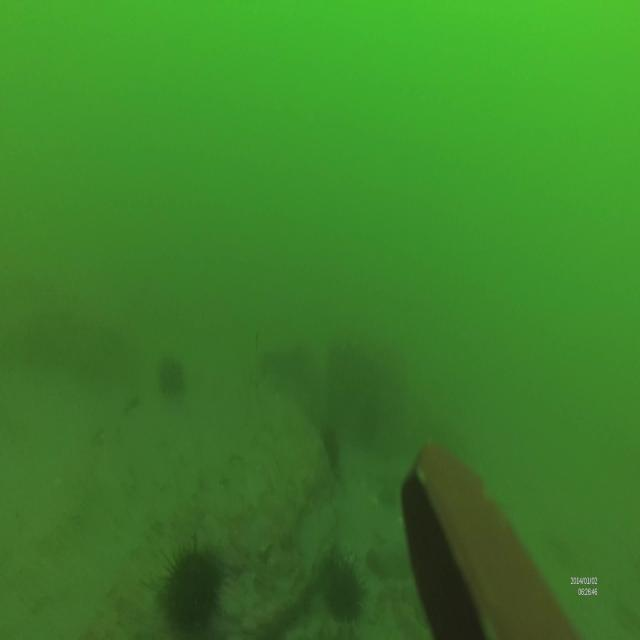echinus: (156, 536, 230, 632), (324, 553, 366, 627), (158, 355, 186, 401)
